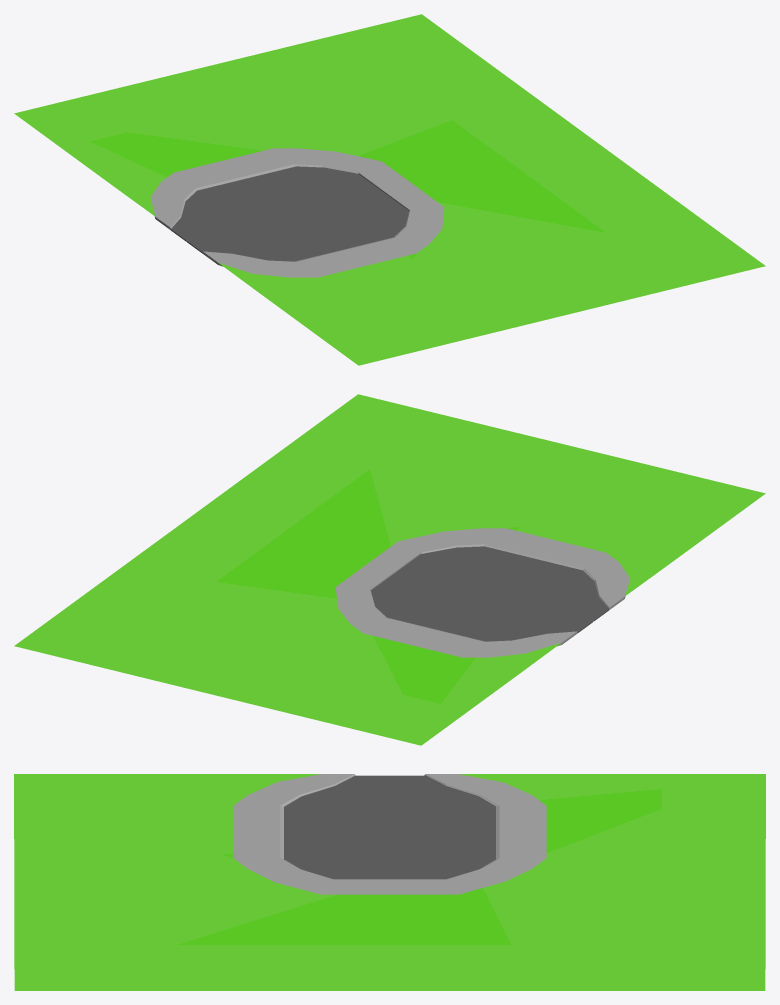
Rendered from roadDeadEnd.fbx.
3 views of the same model, one above another, from view 1: azimuth 30°, elevation 25°; view 2: azimuth 150°, elevation 25°; view 3: azimuth 270°, elevation 25° (orthographic). The views are drawn at different scales.
Parts seen in each view (by area): view 1: RoadDeadEnd; view 2: RoadDeadEnd; view 3: RoadDeadEnd.
Part boxes in pixels (x1,y1,x2,y2): RoadDeadEnd: (14,14,765,365); RoadDeadEnd: (14,394,765,745); RoadDeadEnd: (14,774,765,990).
Size of the model in its own units: 7501 by 47.95 by 10988.
